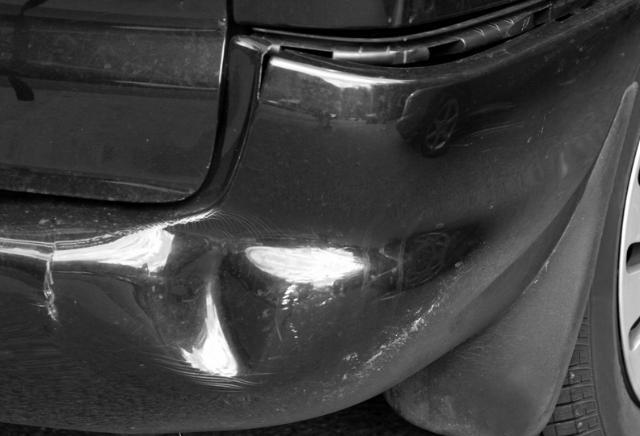Bumper: (32, 202, 449, 414)
